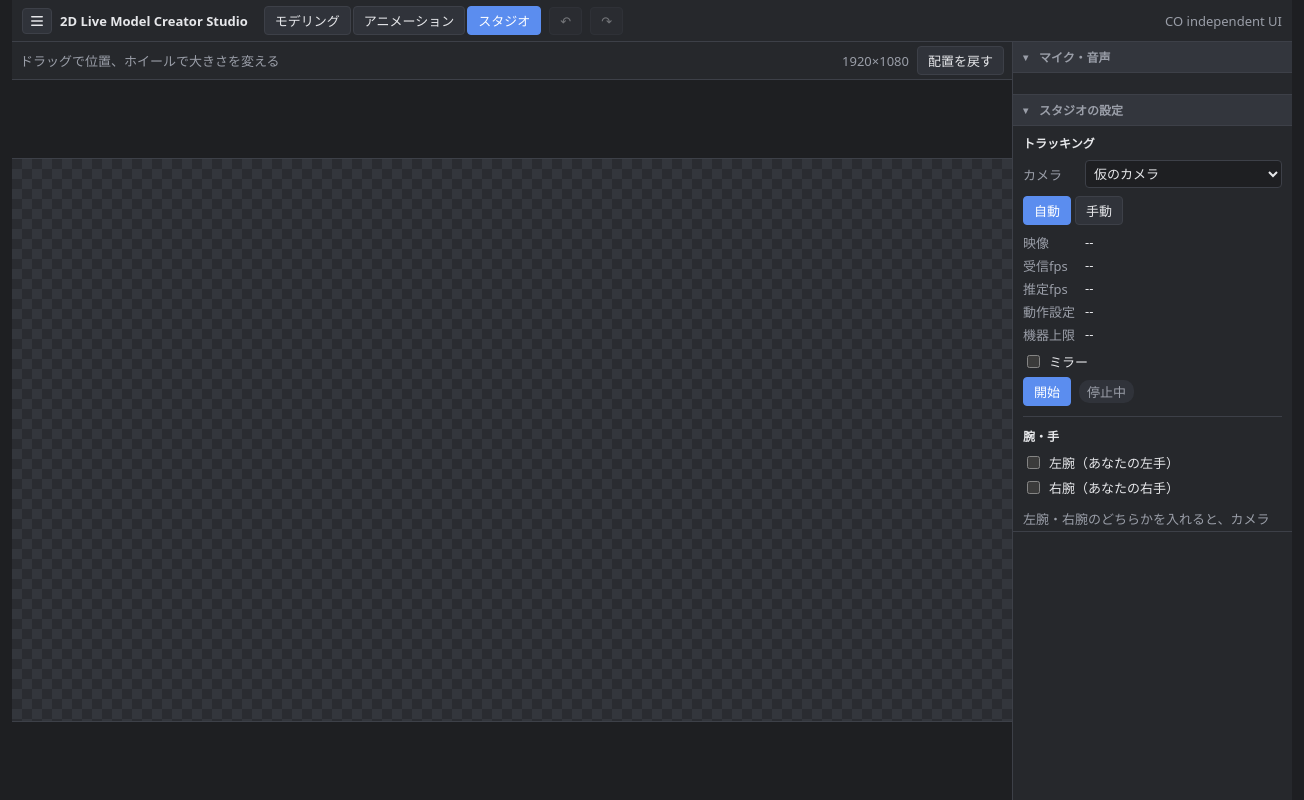
Scenario: AT-11 CO画面独立確認 › 左右の設定と固定形を独立に渡し、画面自身はProjectやEnvironmentを書き換えない
Click the checkbox labelled "右腕（あなたの右手）": [1034, 488] box [1027, 481, 1040, 494]
(page scrolled)
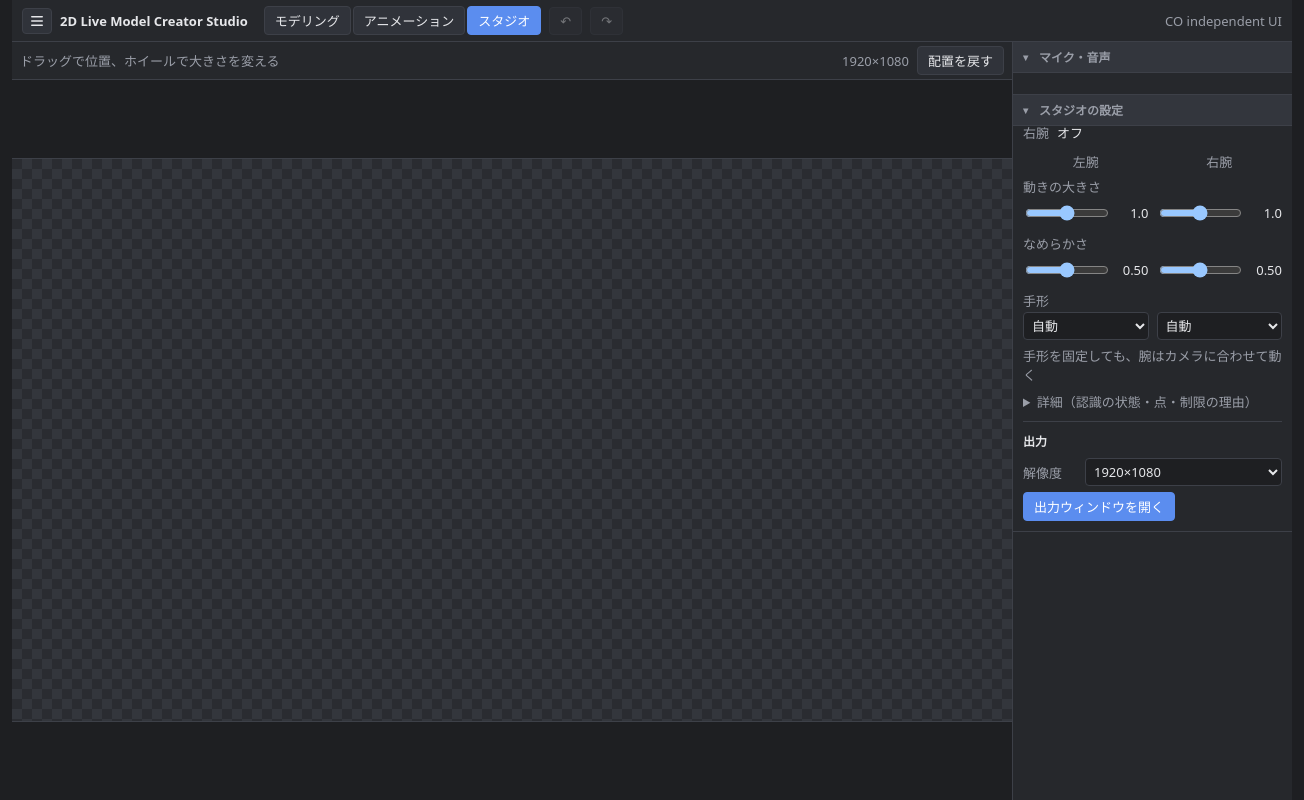
Select "peace" in the dropdown named "右腕の手形": [1219, 326] box [1156, 312, 1282, 340]
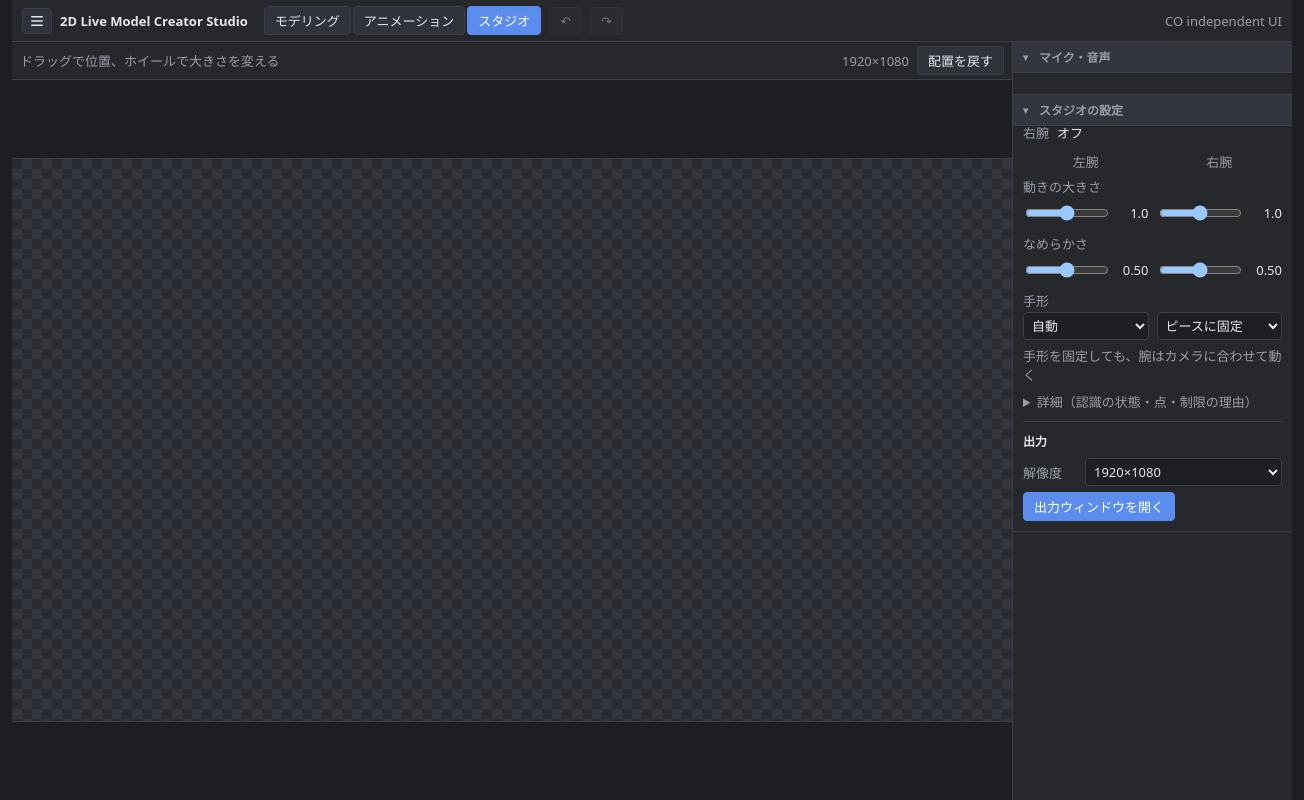
Select "fist" in the dropdown named "左腕の手形": [1086, 326] box [1023, 312, 1148, 340]
(page scrolled)
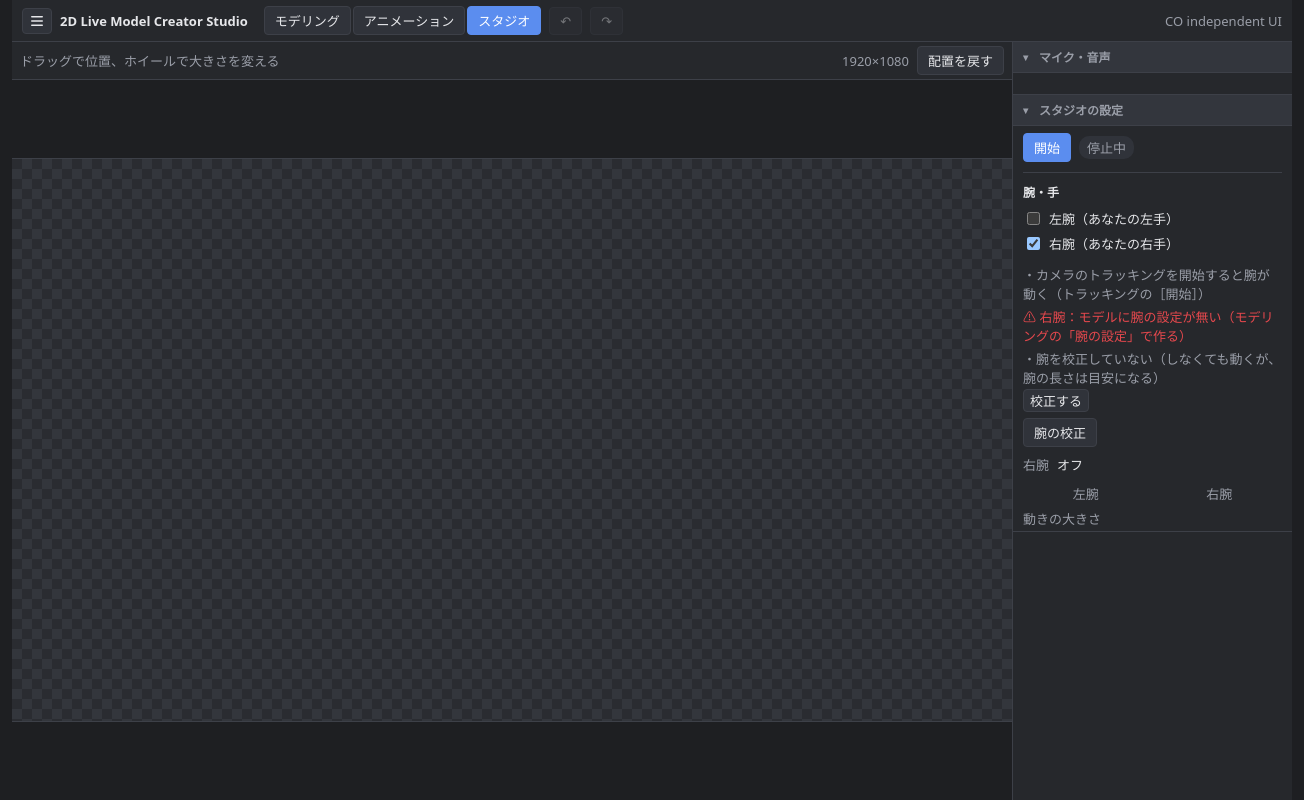
Now the text "⚠ 右腕：モデルに腕の設定が無い（モデリングの「腕の設定」で作る）" is shown, box [1023, 307, 1282, 345]
